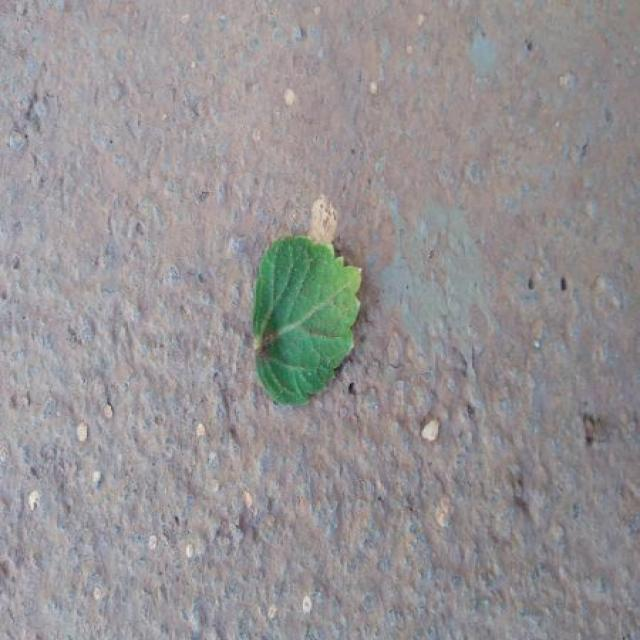Hibiscus: (253, 236, 362, 404)
